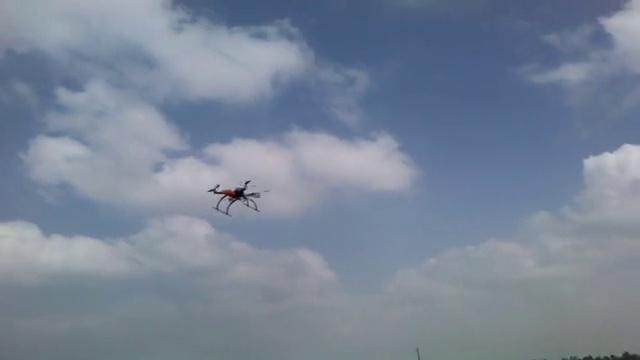drone: (205, 176, 266, 216)
